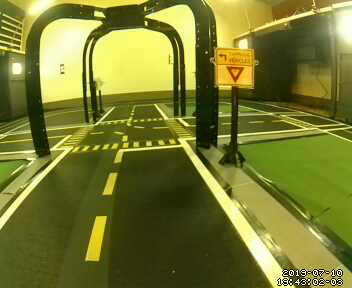Turn Yield: (215, 46, 255, 89)
